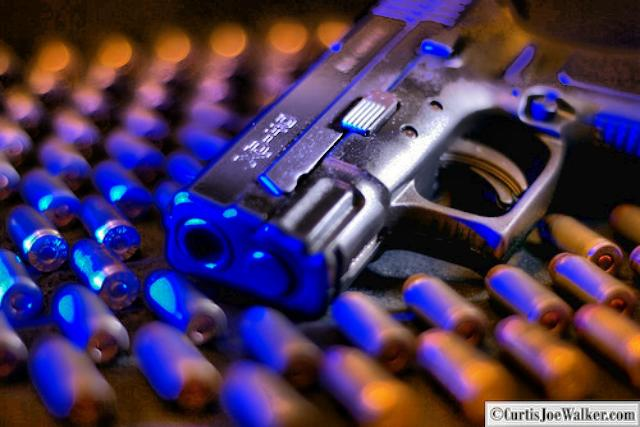pistol: (170, 1, 638, 306)
